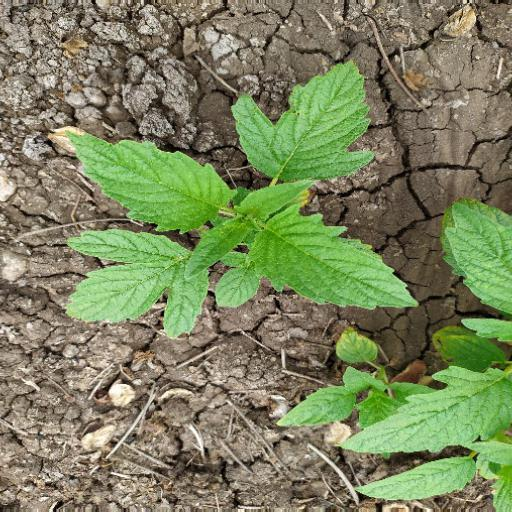crop: (50, 58, 415, 340), (315, 210, 512, 508)
